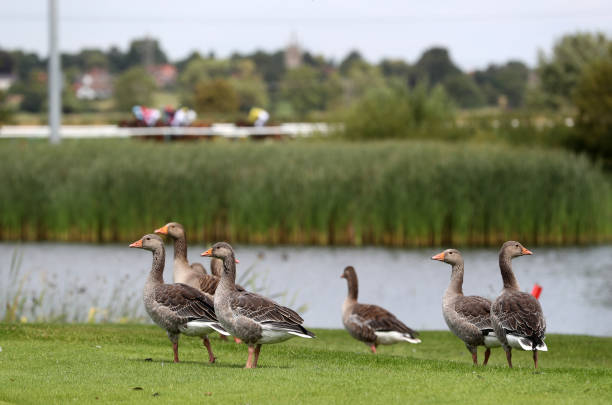goose: (201, 241, 316, 373), (127, 234, 218, 369), (430, 246, 502, 371), (488, 237, 550, 372), (338, 262, 421, 362), (153, 217, 212, 295)
